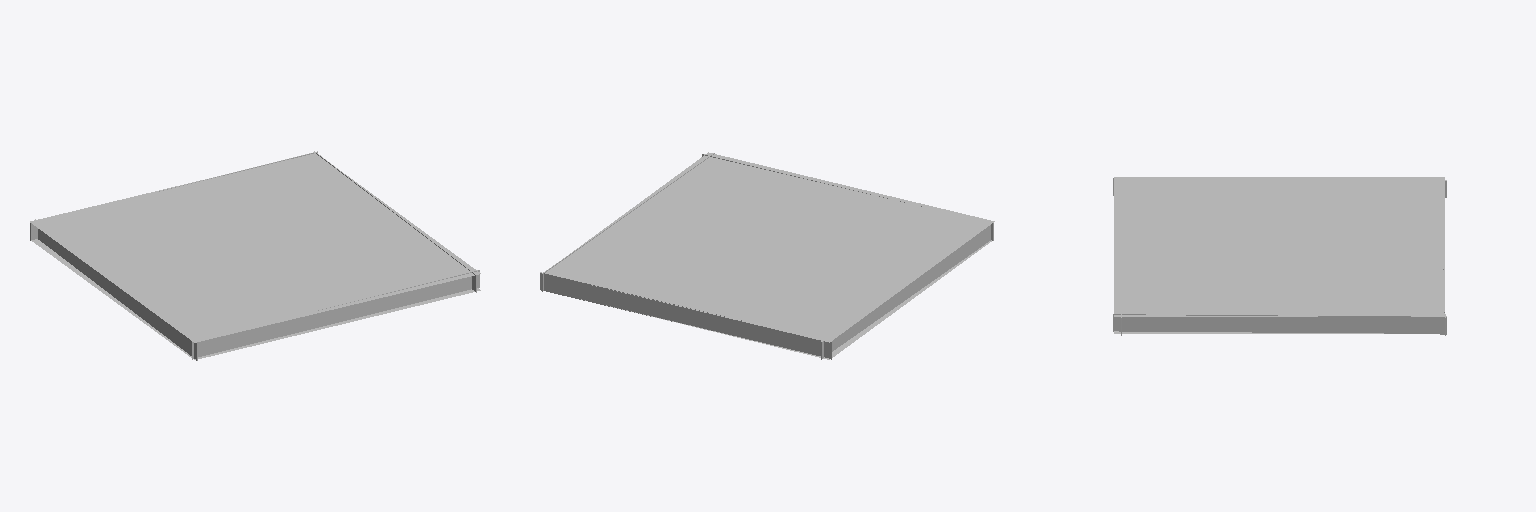
Rendered from Room1.obj.
3 renders of one model, left to right at view 1: azimuth 30°, elevation 25°; view 2: azimuth 150°, elevation 25°; view 3: azimuth 270°, elevation 25°, orthographic.
Parts seen in each view (by area): view 1: Plane.002, Cube.003_Cube.004, Cube.004_Cube.007, Plane.001; view 2: Plane.002, Cube.002_Cube.006, Cube.004_Cube.007, Plane.001; view 3: Plane.002, Cube.001_Cube.002.
Part boxes in pixels (left/top/right/bottom): Plane.002: left=30, top=153, right=480, bottom=342; Cube.003_Cube.004: left=192, top=270, right=479, bottom=359; Cube.004_Cube.007: left=35, top=219, right=197, bottom=360; Plane.001: left=31, top=239, right=480, bottom=359; Plane.002: left=546, top=152, right=994, bottom=342; Cube.002_Cube.006: left=540, top=272, right=831, bottom=359; Cube.004_Cube.007: left=821, top=225, right=990, bottom=359; Plane.001: left=581, top=240, right=991, bottom=359; Plane.002: left=1114, top=177, right=1444, bottom=316; Cube.001_Cube.002: left=1113, top=314, right=1446, bottom=334.
Bounding box in the file's own units: 38.02 × 2.26 × 38.01.